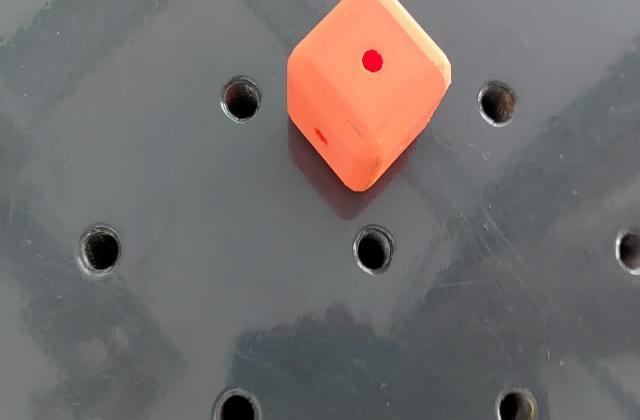cube: (285, 0, 454, 196)
